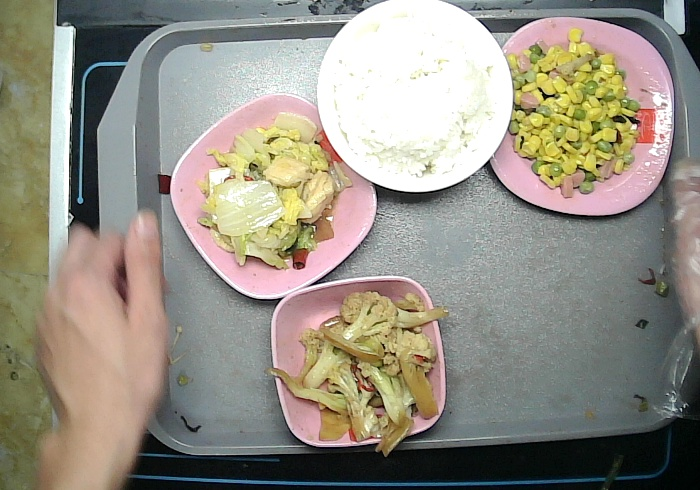SHKJ-Fan_Wan: (314, 1, 515, 194)
SHKJ-Fen_Se_Cai_Die: (169, 90, 379, 300)
SHKJ-Fen_Se_Si_Fang_Cai_Die: (487, 14, 675, 217)
SHKJ-Fen_Se_Xiao_Fang_Die: (269, 273, 449, 449)
